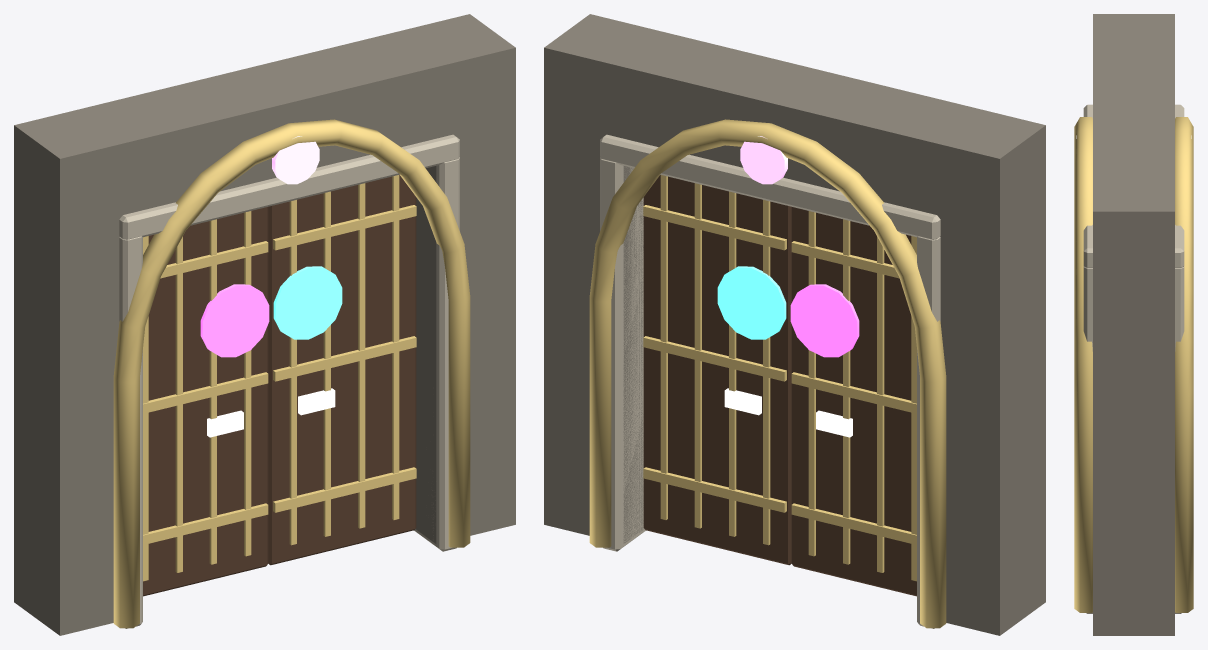
Rendered from door_bb_gate.glb.
3 views of the same model, side by side, from view 1: azimuth 30°, elevation 25°; view 2: azimuth 150°, elevation 25°; view 3: azimuth 270°, elevation 25° (orthographic). The views are drawn at different scales.
Visible parts, largest first — view 1: frame, leaf_r, leaf_l; view 2: frame, leaf_r, leaf_l; view 3: frame.
Part boxes in pixels (x1,y1,x2,y2): frame: [14, 14, 515, 635]; leaf_r: [268, 174, 416, 565]; leaf_l: [143, 207, 269, 596]; frame: [544, 14, 1045, 635]; leaf_r: [643, 174, 791, 565]; leaf_l: [790, 207, 916, 596]; frame: [1074, 14, 1193, 635].
Size of the model in its own units: 4 by 4.05 by 1.02.
